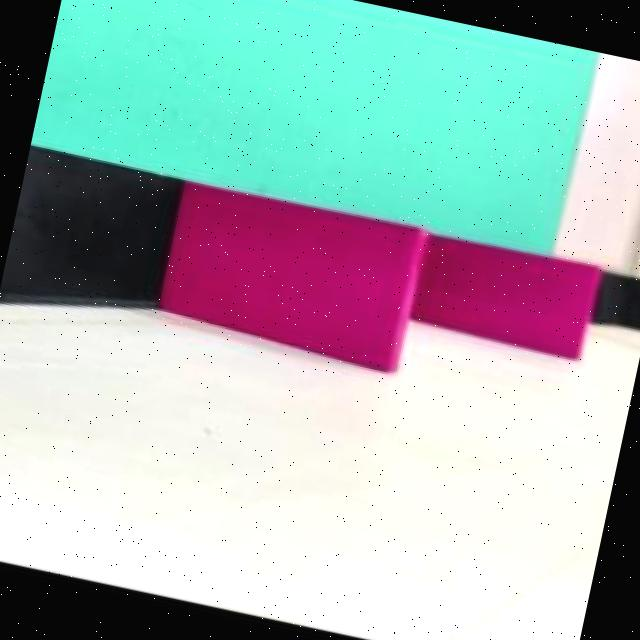xparking: (164, 180, 428, 357), (416, 232, 598, 357)
